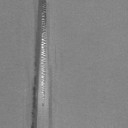slag inclusion: (30, 0, 46, 128)
